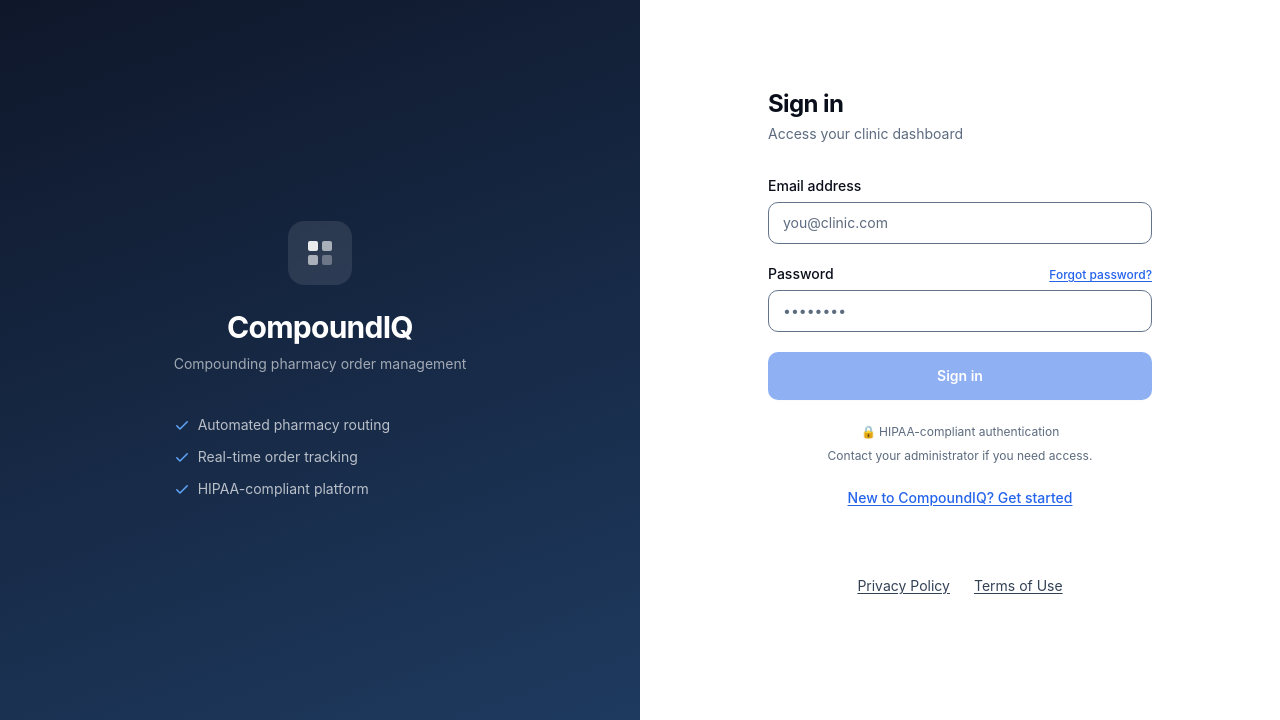
wrong credentials still say so
Type "ma@clinic.test" into the field labelled "Email address" at (960,223), box [768, 202, 1152, 244]
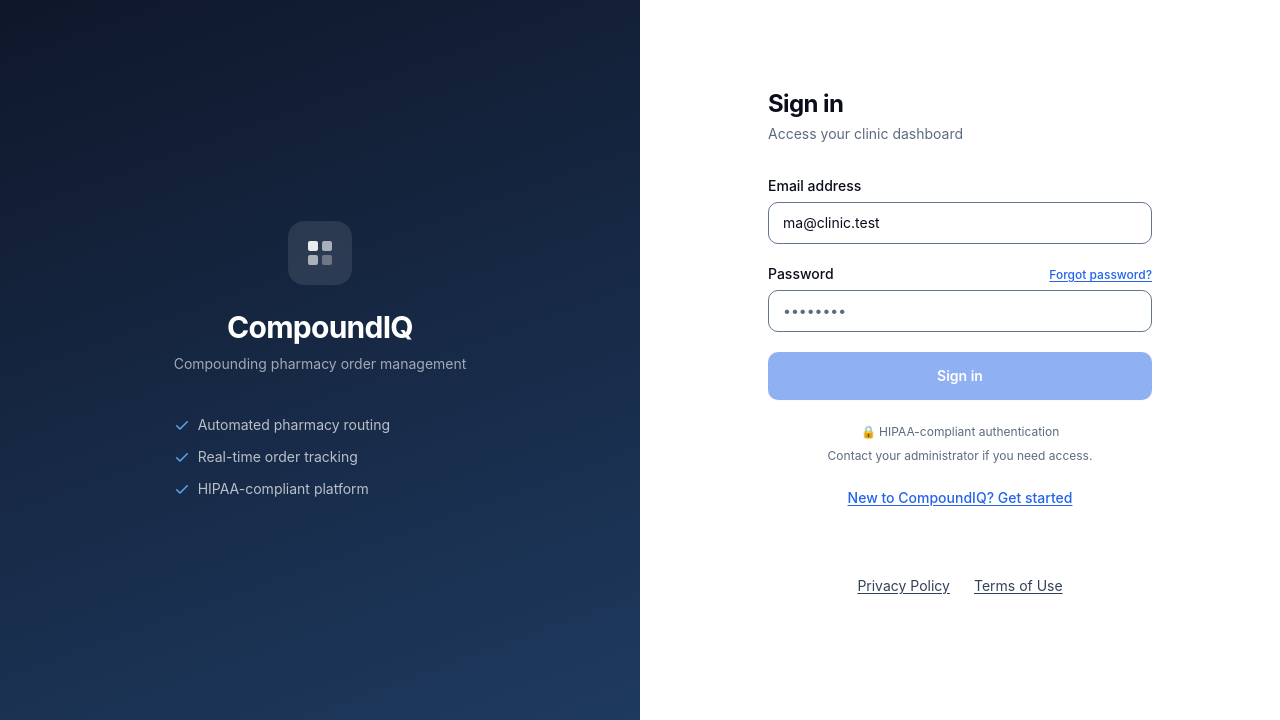
Type "pw-pw-pw-pw-pw" into the password field labelled "Password" at (960,311), box [768, 290, 1152, 332]
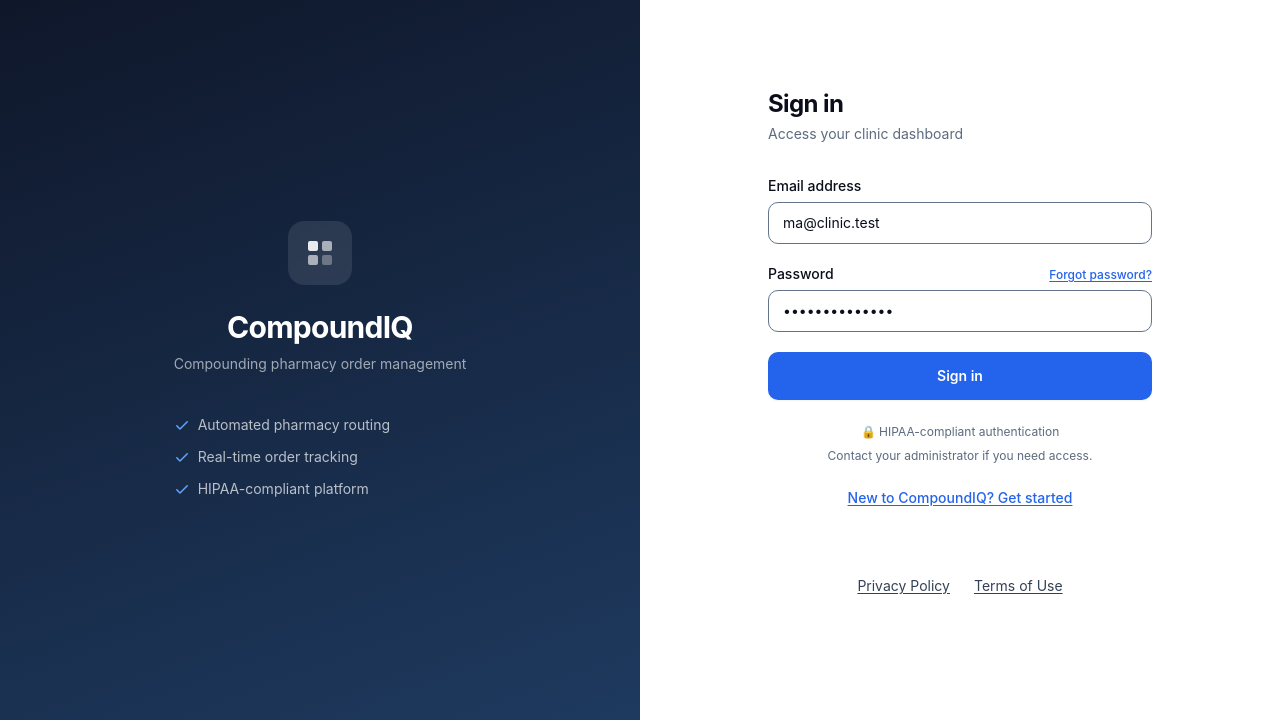
Click the button "Sign in" at (960,376), box [768, 352, 1152, 400]
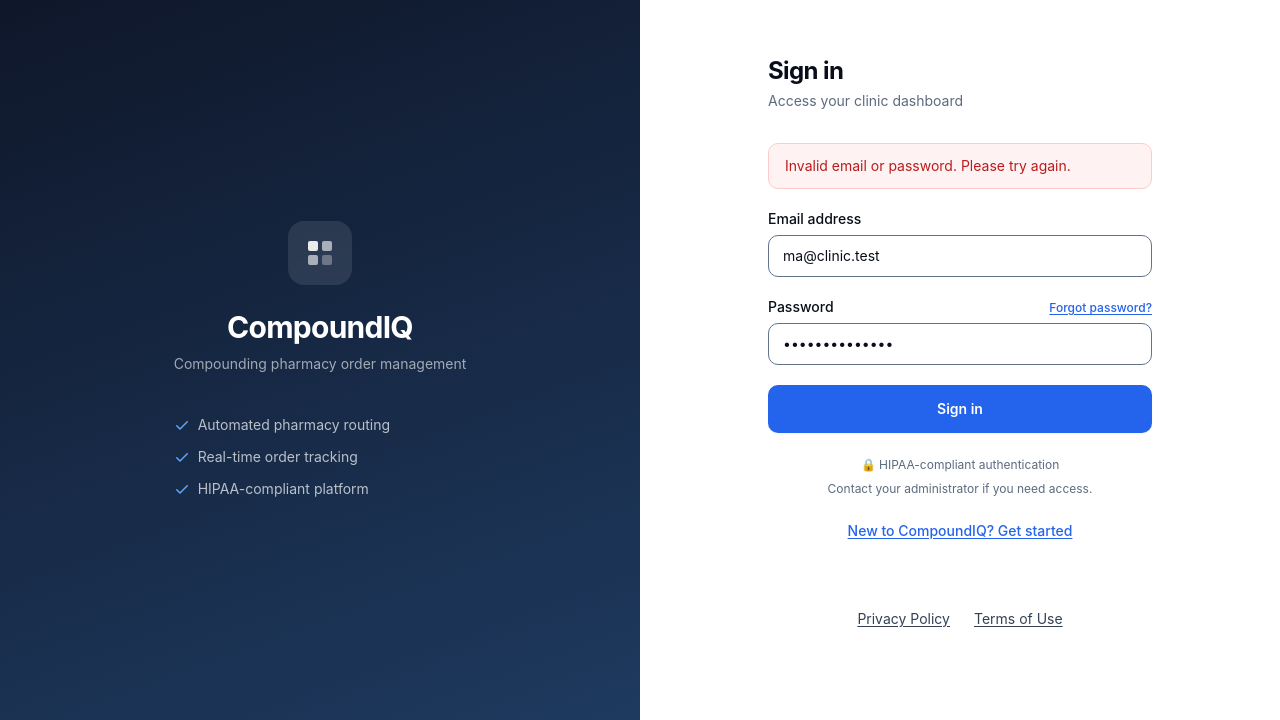
Expected: the message reads "Invalid email or password. Please try again.", [785, 157, 1071, 174]
